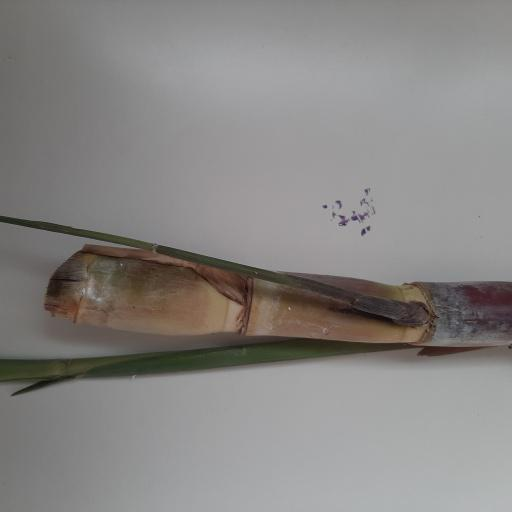Sprouted_Bud: (358, 294, 431, 327)
